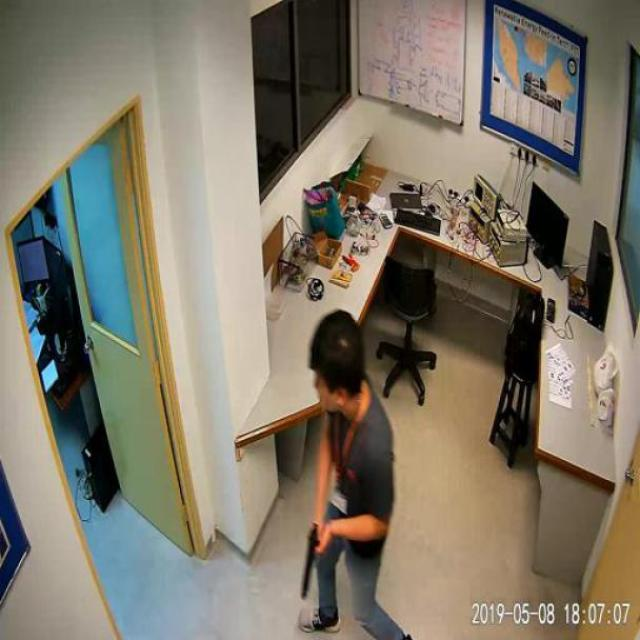Gun: (296, 522, 332, 605)
